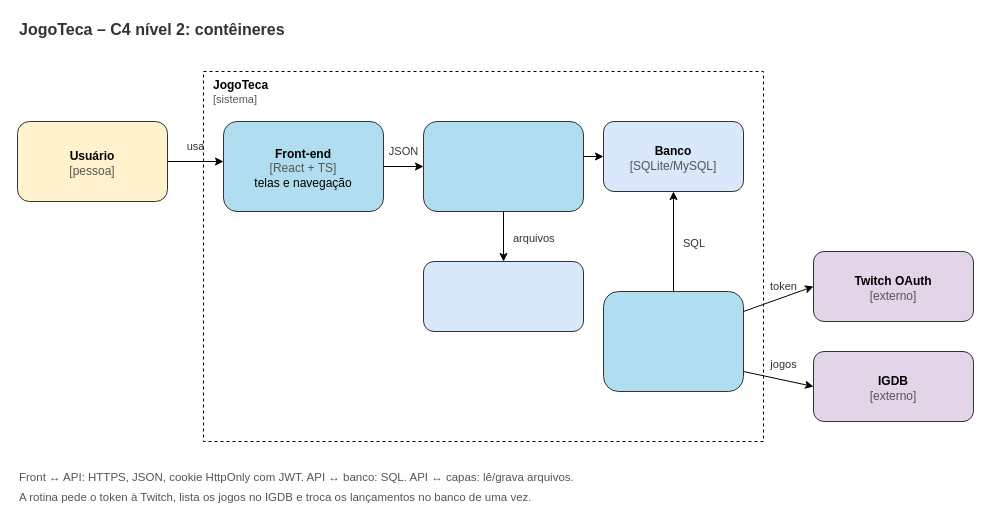
This 991x524 diagram has some shape labels left out. Here are the shapes that lost their labels. From the top down, the centre of each, then its label:
At [503,166]: "API [FastAPI] regras e segurança".
At [503,296]: "Pasta de capas [arquivos]".
At [673,341]: "Rotina de lançamentos [processo agendado]".
